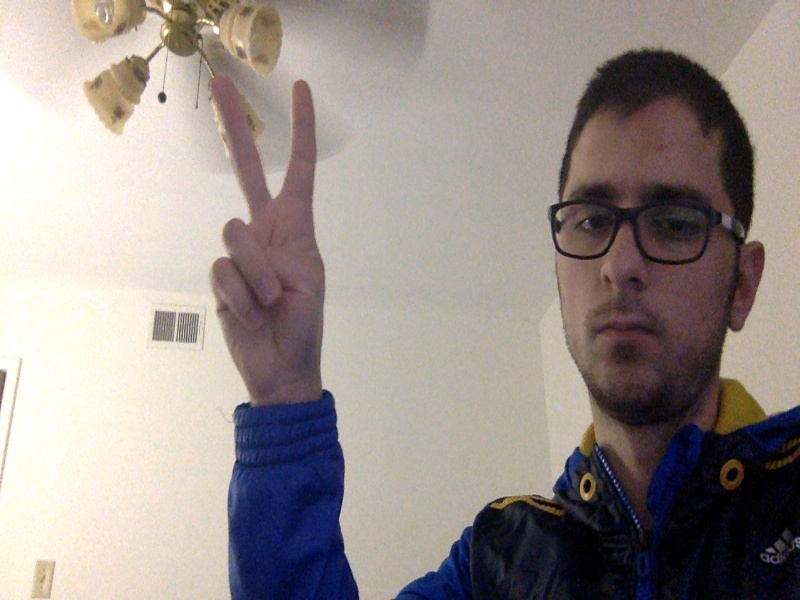2-hand: (208, 76, 327, 397)
